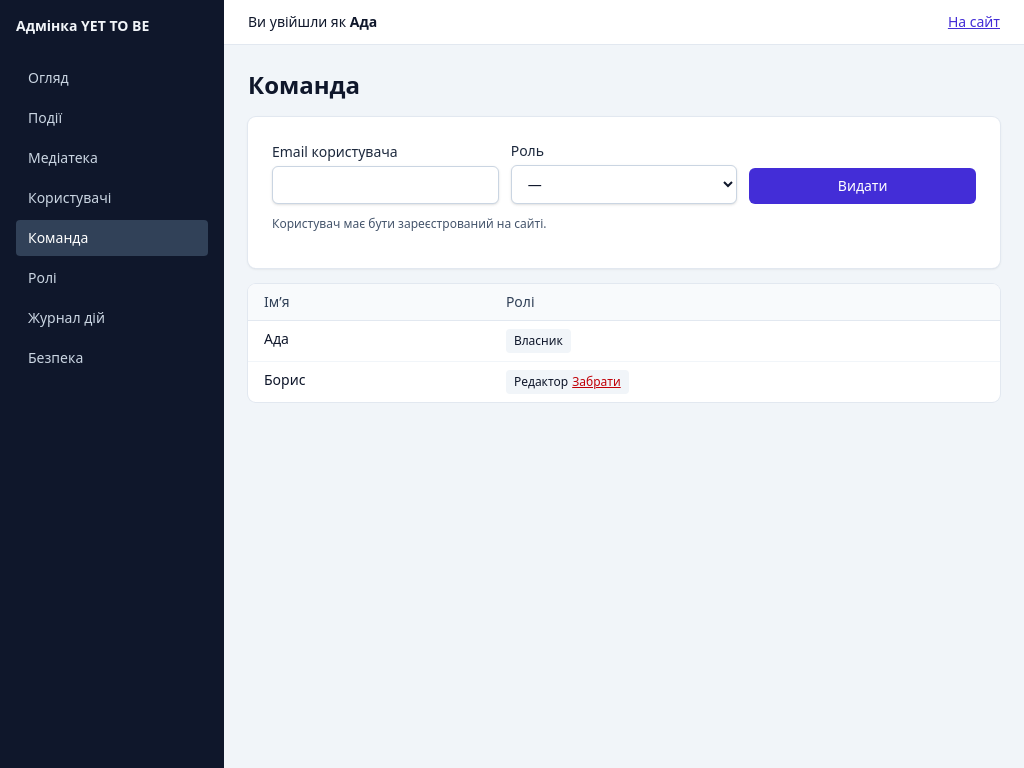
Test: команда › видає роль за email і забирає роль в іншого учасника, але не в себе
This screenshot has width=1024, height=768.
Expected: the text "Борис" is shown, [248,362,490,402]
Type "new@example.com" into the field labelled "Email користувача" at (385, 185), box [272,166,499,204]
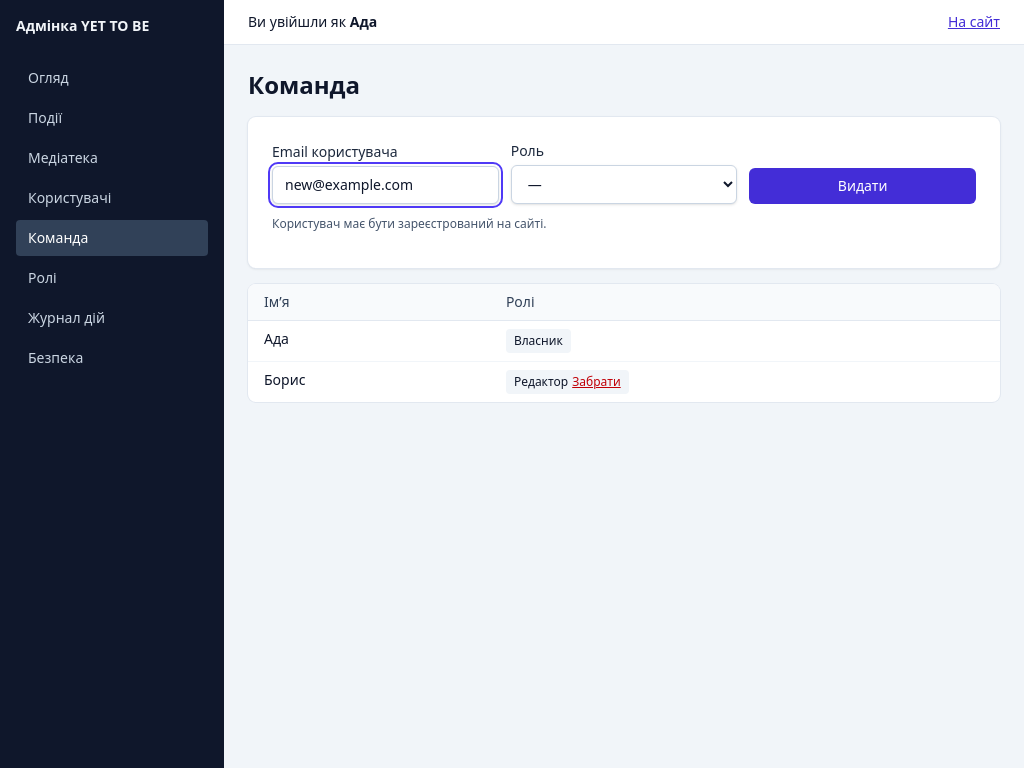
Select "Редактор" in the dropdown labelled "Роль" at (624, 184), box [511,165,737,204]
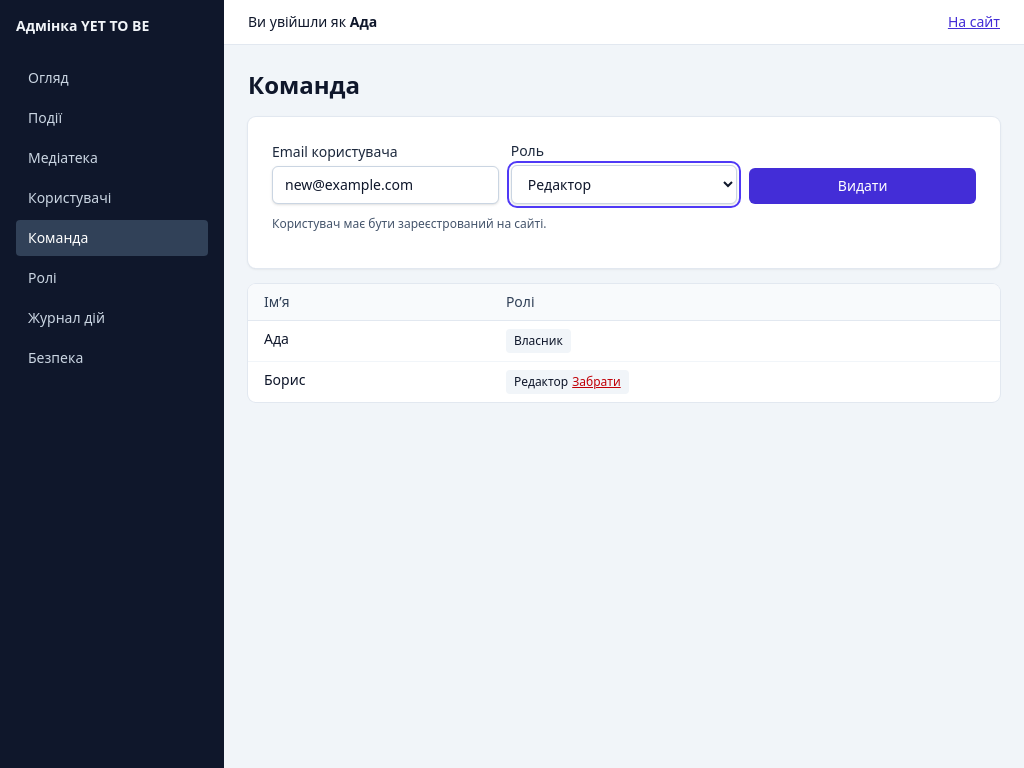
Click the button "Видати" at (863, 186), box [749,168,976,204]
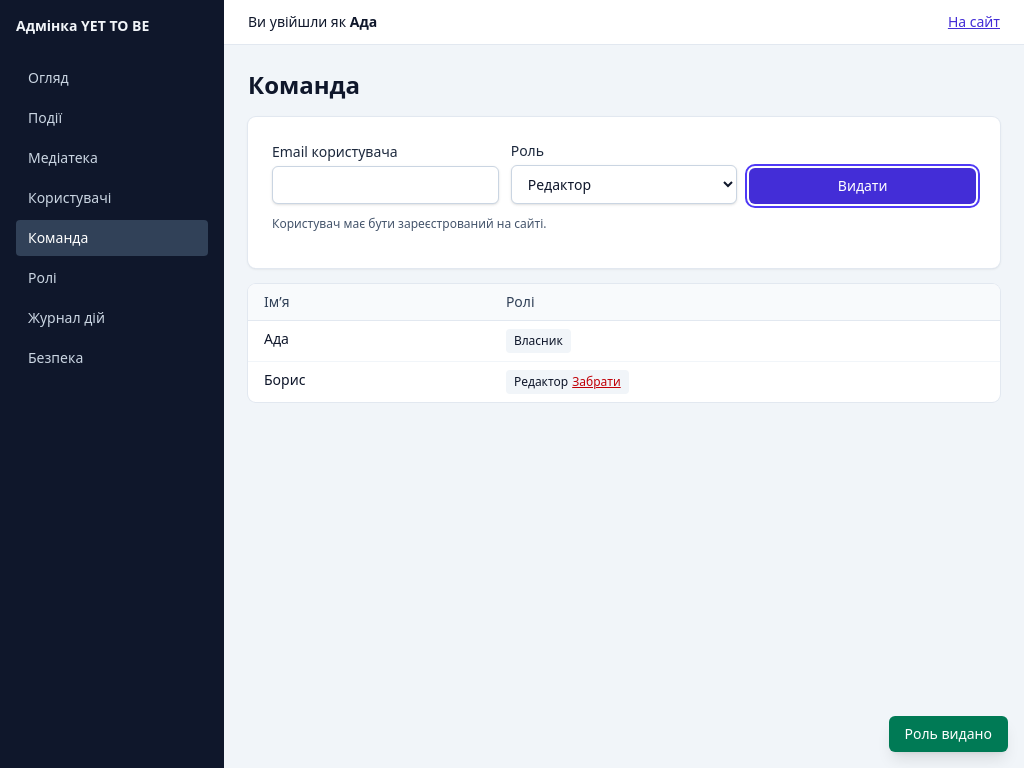
Expected: the text "Роль видано" is shown, [889,716,1008,752]
Click the button with aria-label "Забрати: Редактор" at (596, 382), box [572,374,621,390]
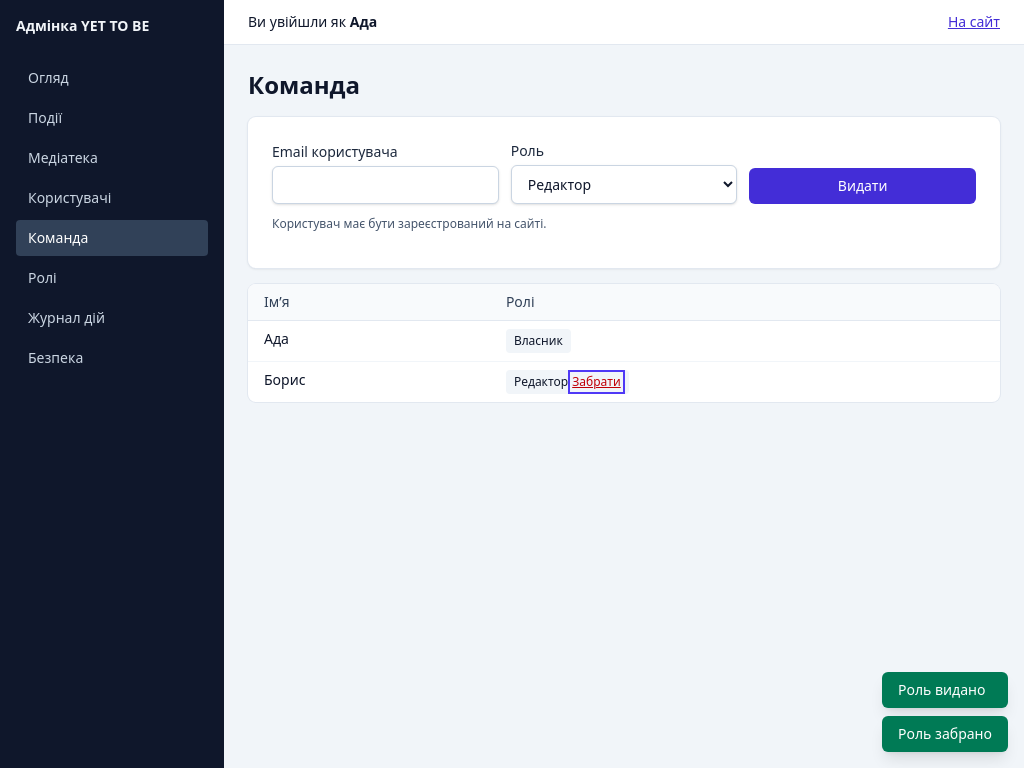
Expected: the text "Роль забрано" is shown, [882,716,1008,752]
